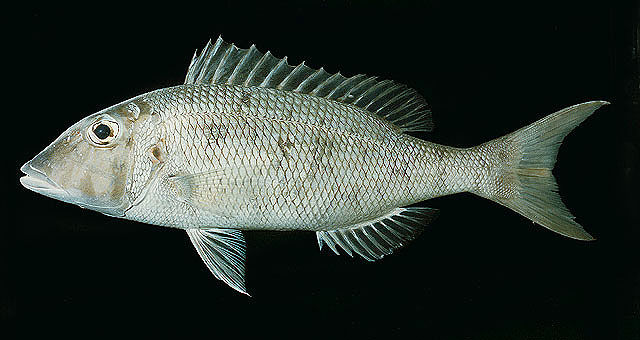fish: (19, 35, 611, 300)
